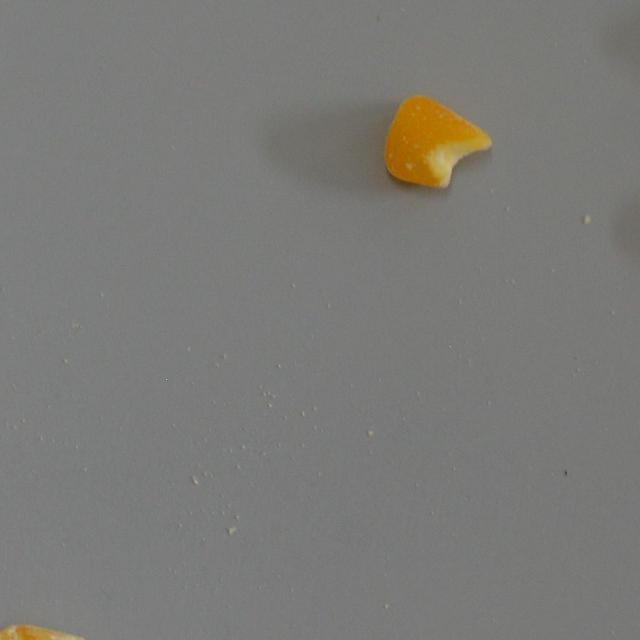pelicula: (383, 94, 492, 189)
